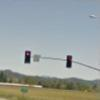traffic lights: (25, 52, 31, 63), (67, 56, 72, 68)
